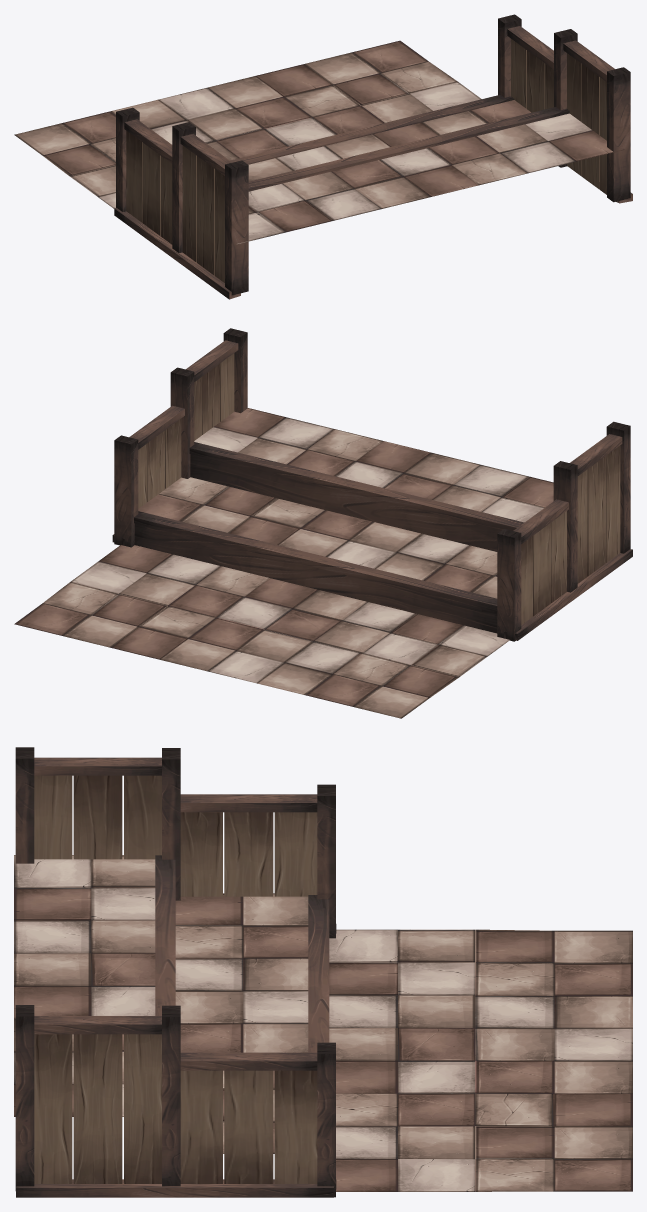
The model's file is Straight2_wall_end.fbx.
3 views of the same model, one above another, from view 1: azimuth 30°, elevation 25°; view 2: azimuth 150°, elevation 25°; view 3: azimuth 270°, elevation 25° (orthographic). The views are drawn at different scales.
Visible parts, largest first — view 1: Straight2_end; view 2: Straight2_end; view 3: Straight2_end.
Boxes of the visible parts, x1=… form: Straight2_end: x1=14, y1=14, x2=632, y2=299; Straight2_end: x1=14, y1=328, x2=632, y2=718; Straight2_end: x1=14, y1=747, x2=632, y2=1197.
Size of the model in its own units: 0.6282 by 0.1945 by 0.6027.
